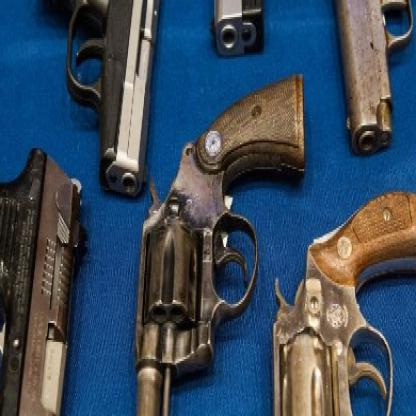gun: (113, 67, 309, 414), (262, 188, 415, 414), (25, 0, 170, 202), (0, 114, 85, 415), (325, 0, 415, 162), (205, 0, 367, 61)
